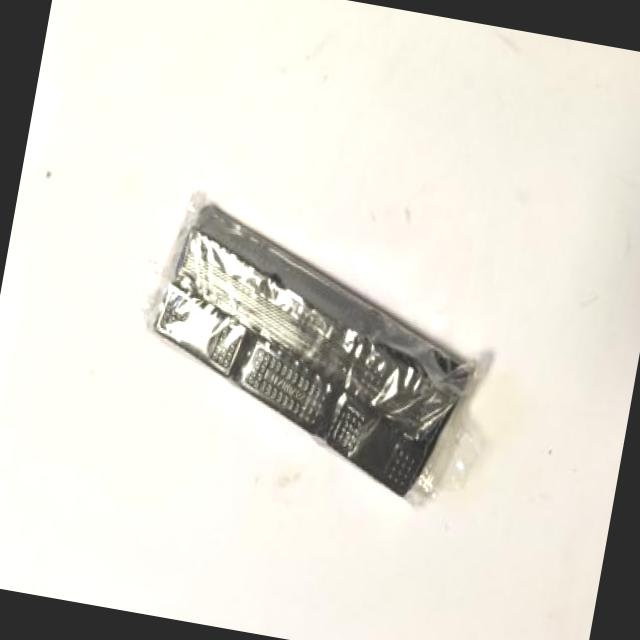Trash: (114, 181, 518, 525)
